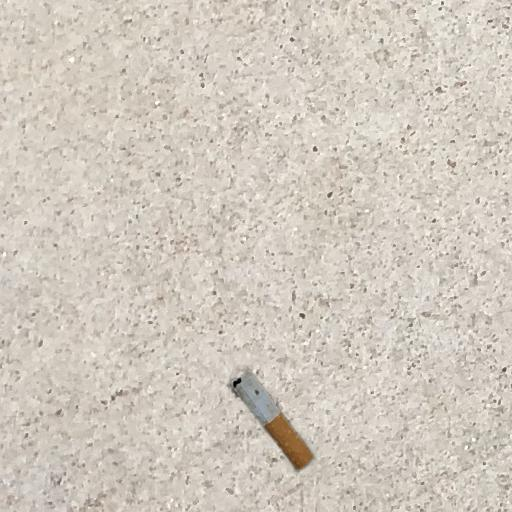smoke: (231, 370, 313, 469)
